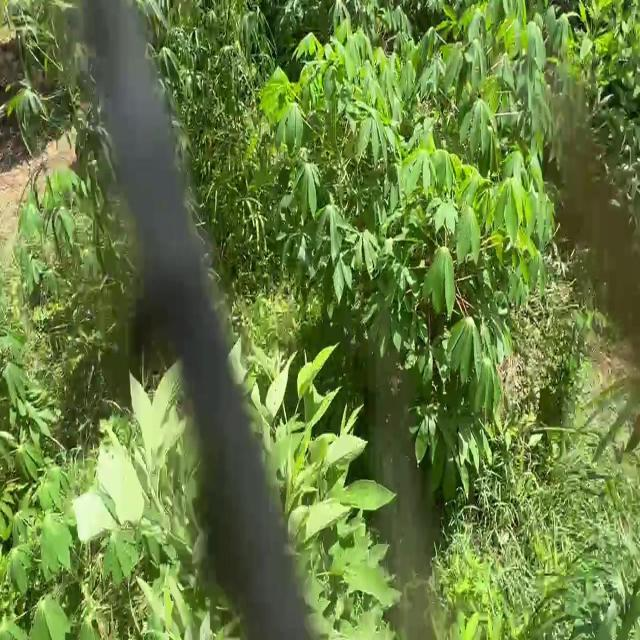Maleza: (121, 429, 273, 614), (260, 421, 388, 587), (54, 345, 199, 480), (499, 491, 640, 629), (239, 341, 340, 461)
